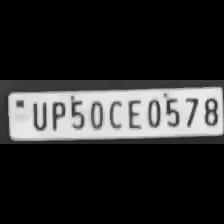0: (86, 97, 106, 130), (142, 95, 162, 127)
5: (162, 94, 182, 128), (66, 97, 86, 130)
7: (181, 94, 199, 128)
8: (200, 93, 220, 126)
C: (105, 97, 123, 129)
E: (122, 96, 142, 130)
P: (46, 97, 66, 130)
U: (27, 98, 49, 130)
